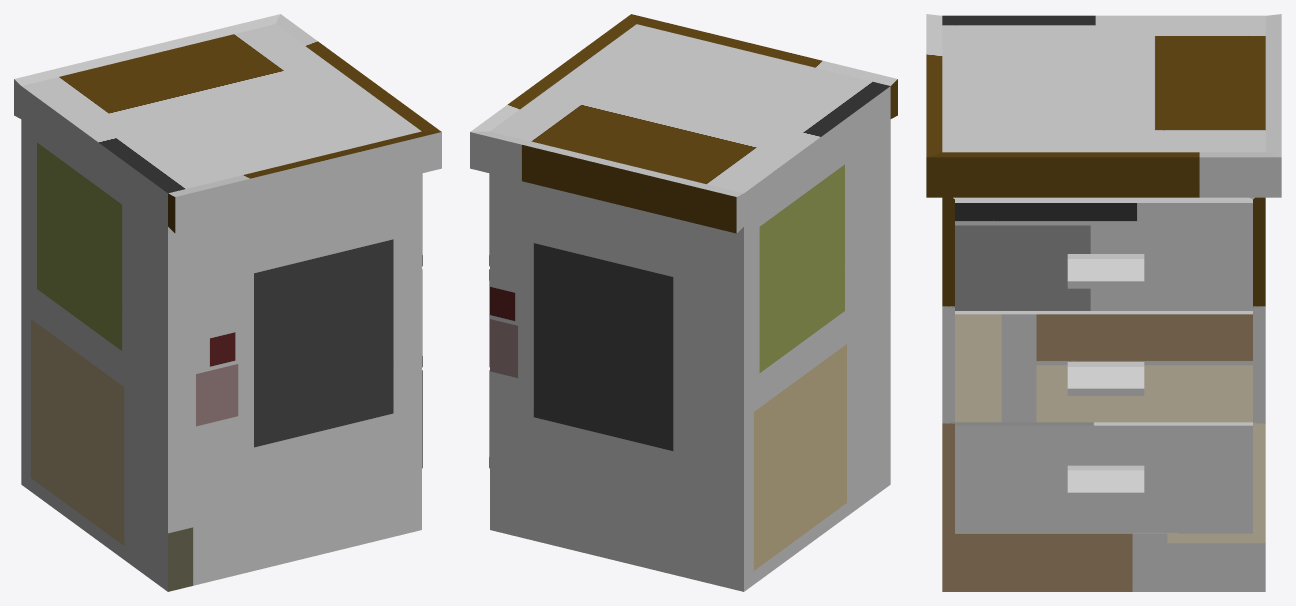
File: NightTable.fbx
3 renders of one model, left to right at view 1: azimuth 30°, elevation 25°; view 2: azimuth 150°, elevation 25°; view 3: azimuth 270°, elevation 25°, orthographic. The views are drawn at different scales.
Visible parts, largest first — view 1: Plane; view 2: Plane; view 3: Plane.
Part boxes in pixels (<box>): Plane: <box>14,14,441,591</box>; Plane: <box>470,14,897,591</box>; Plane: <box>926,14,1281,591</box>.
Size of the model in its own units: 45 by 60.25 by 44.
